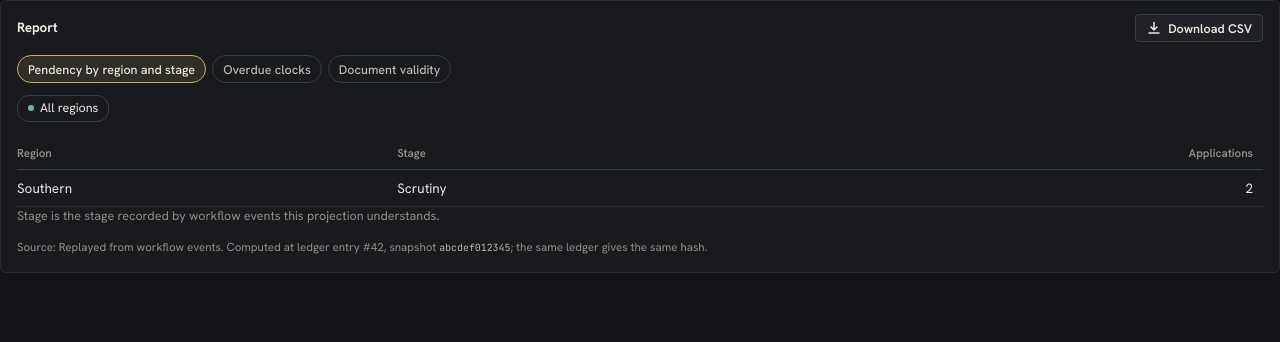
Test: reports › puts the document validity report into words: document, date source, days left and state
Expected: the table named "Pendency by region and stage" is shown, [17, 138, 1263, 207]
Click the button "Document validity": (390,69) [328, 55, 451, 83]
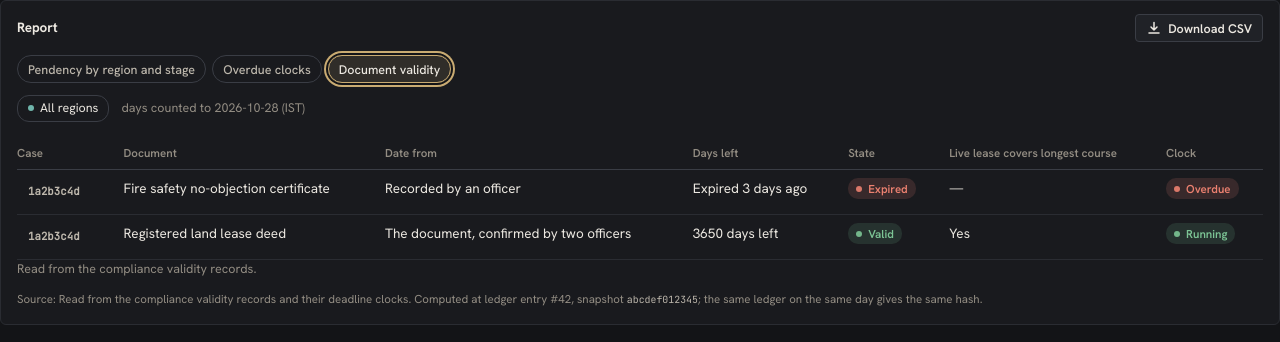
Expected: the table named "Document validity" shows "Fire safety no-objection certificate", [124, 179, 330, 197]
Expected: the table named "Document validity" shows "Registered land lease deed", [124, 224, 286, 242]
Expected: the table named "Document validity" shows "Recorded by an officer", [385, 179, 521, 197]
